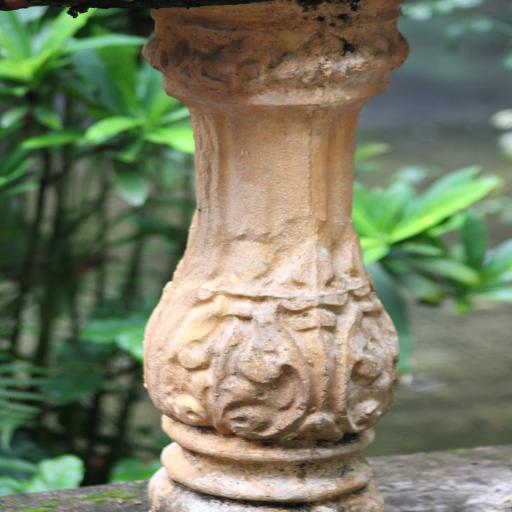la: (157, 273, 389, 450)
